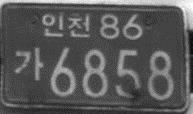5: (114, 49, 141, 98)
6: (49, 46, 76, 97), (122, 12, 143, 42)
8: (147, 49, 174, 100), (81, 48, 108, 98), (99, 13, 119, 39)
가: (13, 45, 44, 82)
인천_O: (41, 12, 90, 38)
